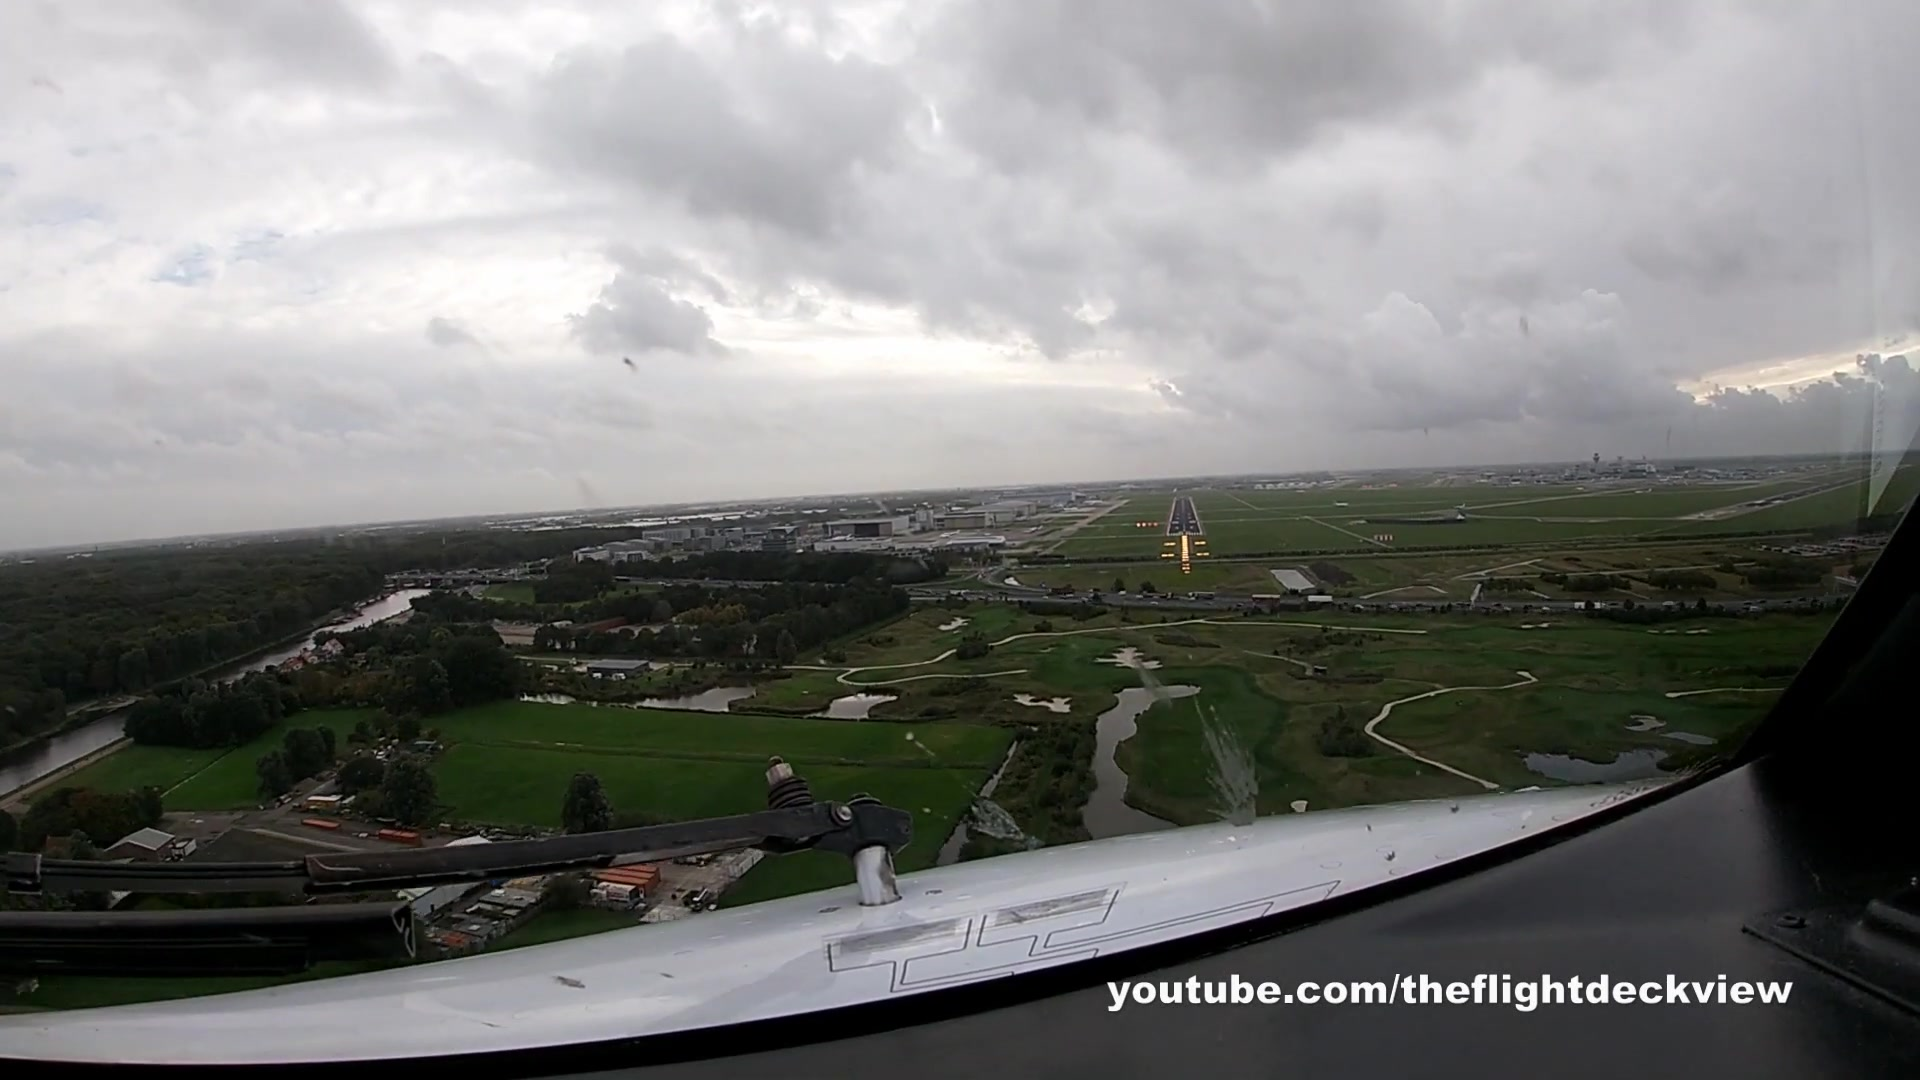runway: (1164, 495, 1203, 539)
